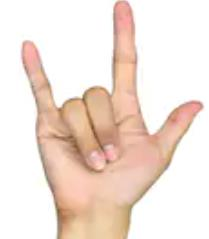back: (17, 1, 205, 217)
